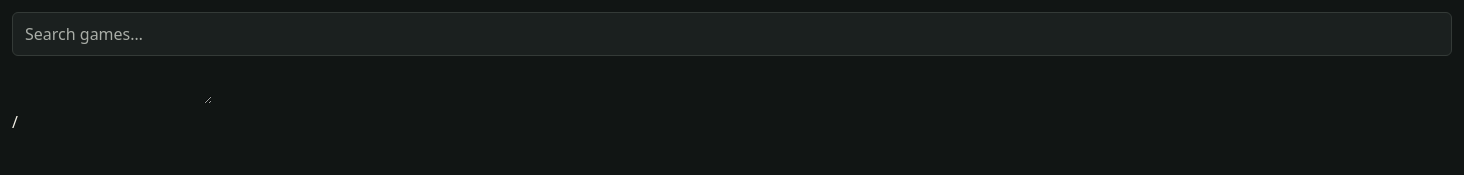
Test case: SearchBox › closes the no-results popup when focus leaves the search box
Type "zzz" into the dropdown labelled "Search games" at x=732, y=34, box x1=12 y1=12 x2=1452 y2=56
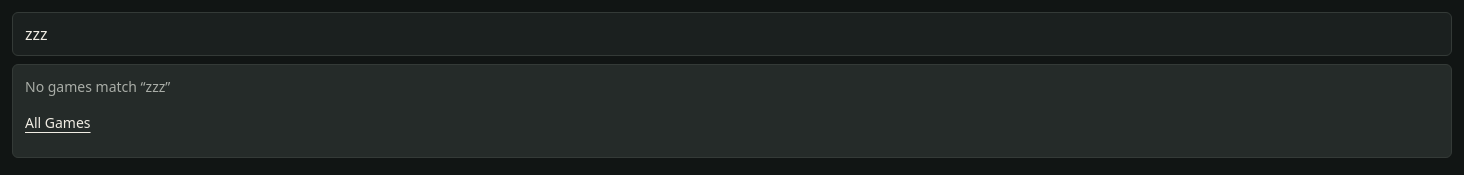
Leave the dropdown named "Search games", box x1=12 y1=12 x2=1452 y2=56
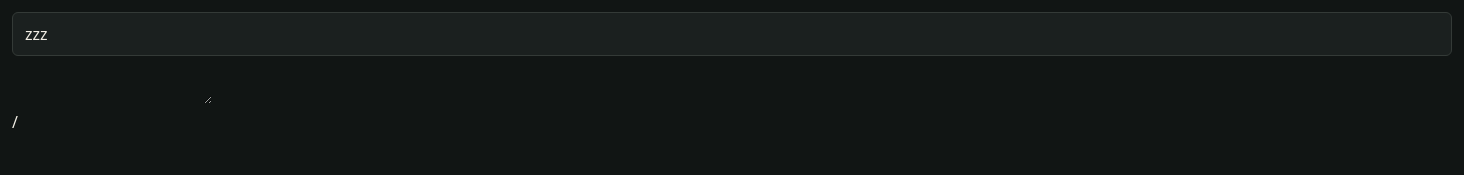
expect the link "All Games" is gone: met
